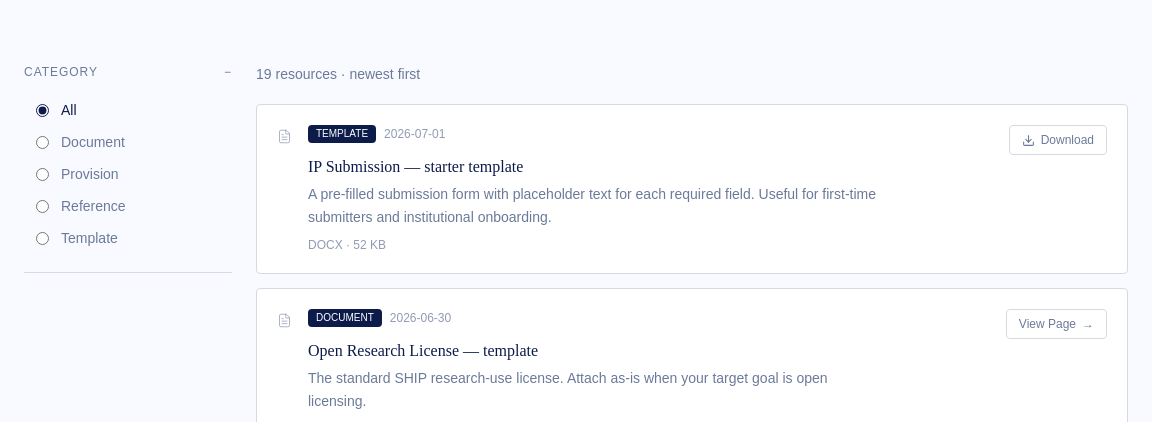
Test: Resources catalog › clears both search and category after an empty result
(page scrolled)
Click the radio button labelled "Template".
click(42, 238)  # box [36,232,49,245]
(page scrolled)
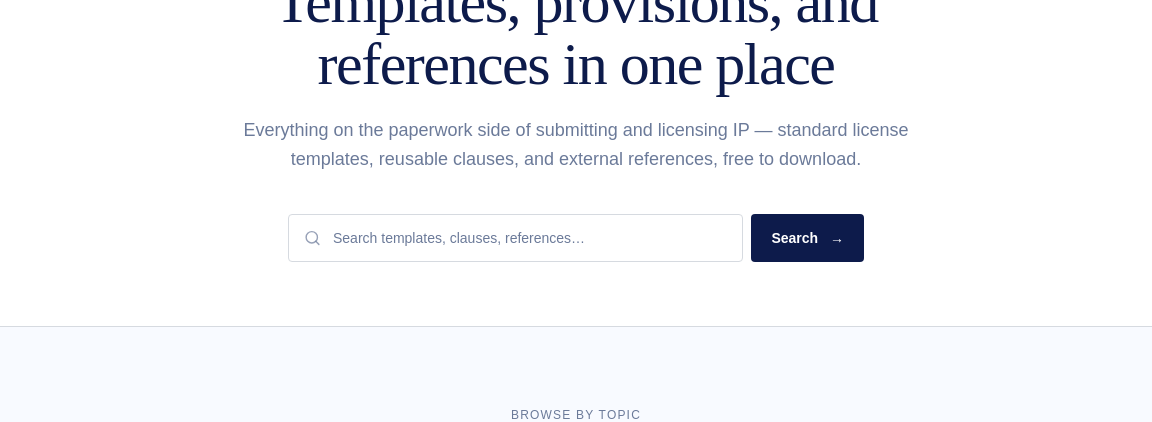
Type "Google" into the search field.
click(516, 238); type("Google")  # box [288,214,743,262]
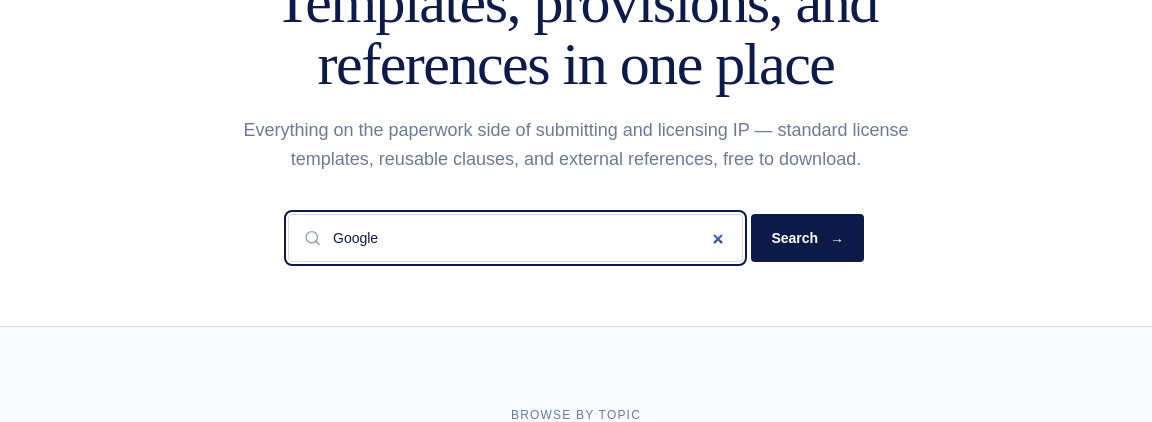
Click the button "Search →".
click(808, 238)  # box [751,214,864,262]
(page scrolled)
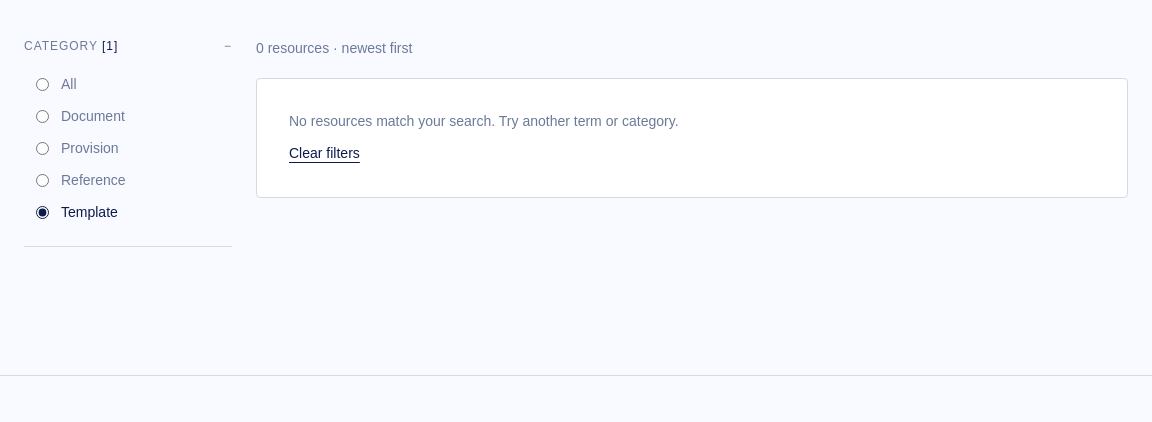
Click the button "Clear filters".
click(324, 153)  # box [289,143,360,163]
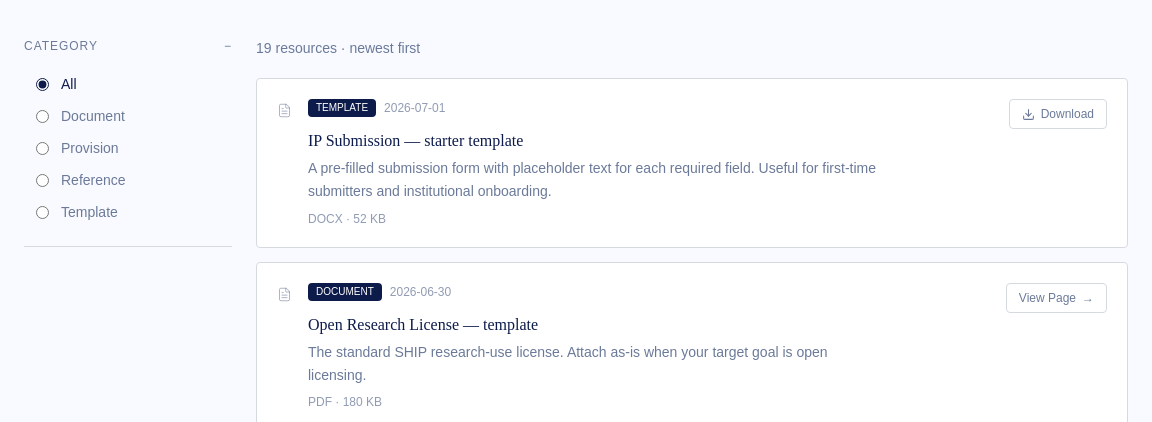
Expected: the radio button labelled "All" is checked, [36,78,49,91]
